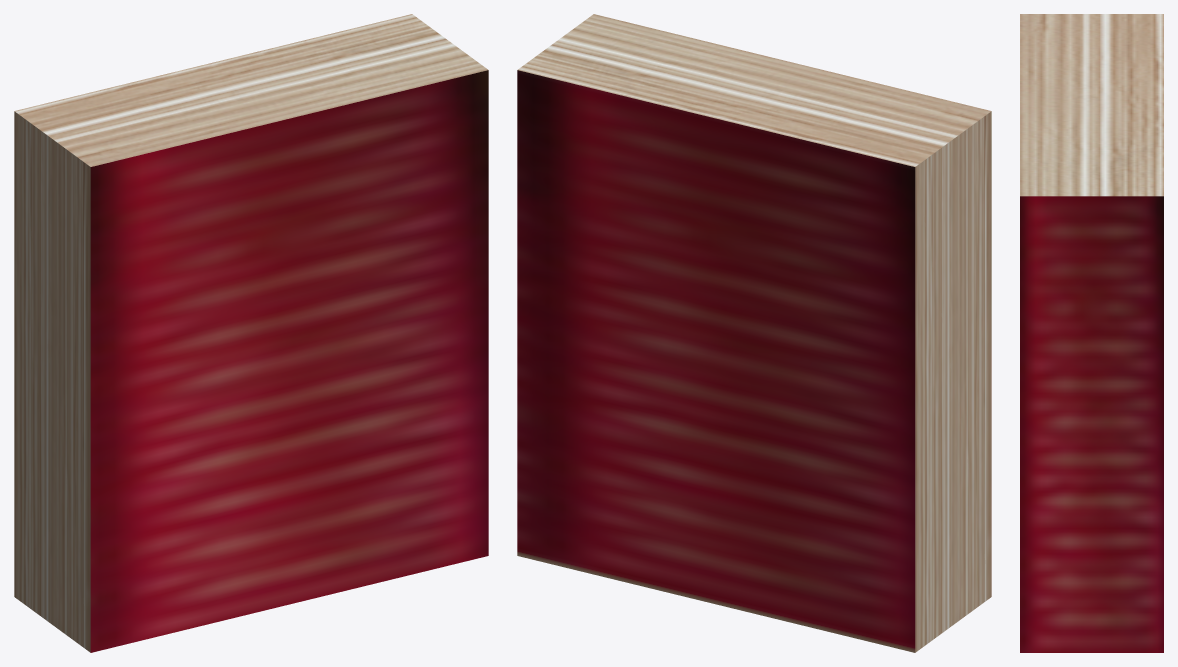
Rendered from book_e.glb.
3 renders of one model, left to right at view 1: azimuth 30°, elevation 25°; view 2: azimuth 150°, elevation 25°; view 3: azimuth 270°, elevation 25°, orthographic. The views are drawn at different scales.
Parts seen in each view (by area): view 1: Cubo.014; view 2: Cubo.014; view 3: Cubo.014.
Boxes of the visible parts, x1,y1,x2,y2 form: Cubo.014: (14, 14, 488, 652); Cubo.014: (517, 14, 991, 652); Cubo.014: (1020, 14, 1163, 652).
Size of the model in its own units: 0.3 by 0.35 by 0.1.
Materials: 1 (1 with a texture image).
